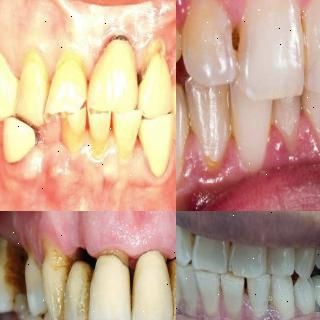Gum Swelling: (0, 16, 166, 81), (7, 134, 176, 190), (176, 131, 246, 200), (51, 219, 170, 256), (262, 112, 320, 171), (25, 227, 49, 264)
calculus: (107, 27, 140, 61)
cavities: (227, 22, 252, 56)
stains: (207, 99, 243, 175), (176, 106, 204, 170), (68, 262, 96, 320), (44, 247, 65, 320), (0, 244, 24, 304), (294, 1, 311, 81), (176, 14, 192, 60), (168, 257, 176, 320)
